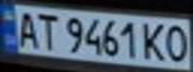1: (118, 19, 139, 60)
4: (81, 16, 103, 55)
6: (100, 17, 121, 57)
9: (60, 14, 84, 53)
A: (12, 8, 42, 48)
K: (139, 20, 169, 62)
O: (163, 21, 193, 64)
T: (33, 10, 60, 51)
